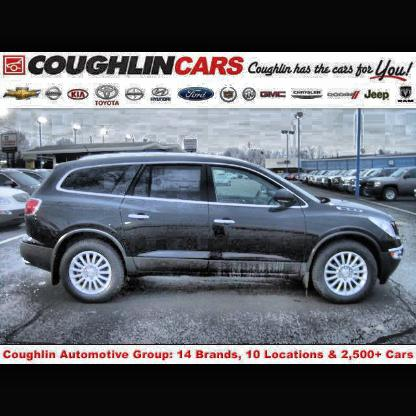Buick Enclave SUV 2012: (19, 151, 406, 307)
